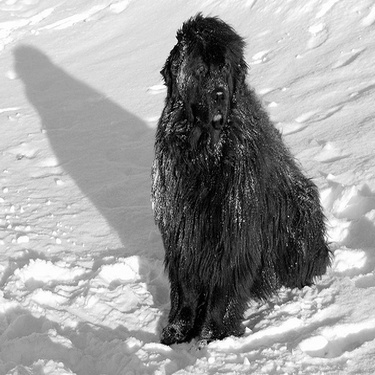dog: (127, 4, 339, 353)
